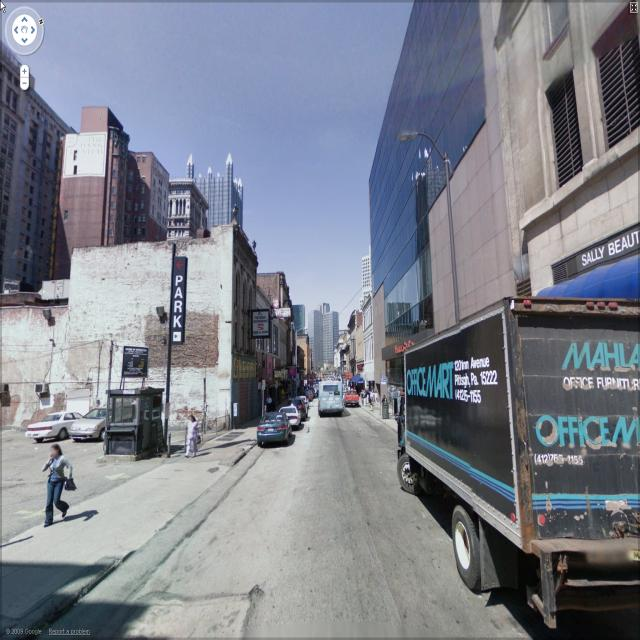b_1: (1, 238, 254, 449), (383, 1, 488, 417), (497, 8, 637, 308), (62, 120, 175, 272), (0, 59, 66, 281), (193, 153, 253, 239), (252, 272, 297, 386), (167, 178, 213, 249), (314, 302, 352, 382), (360, 247, 378, 374)
